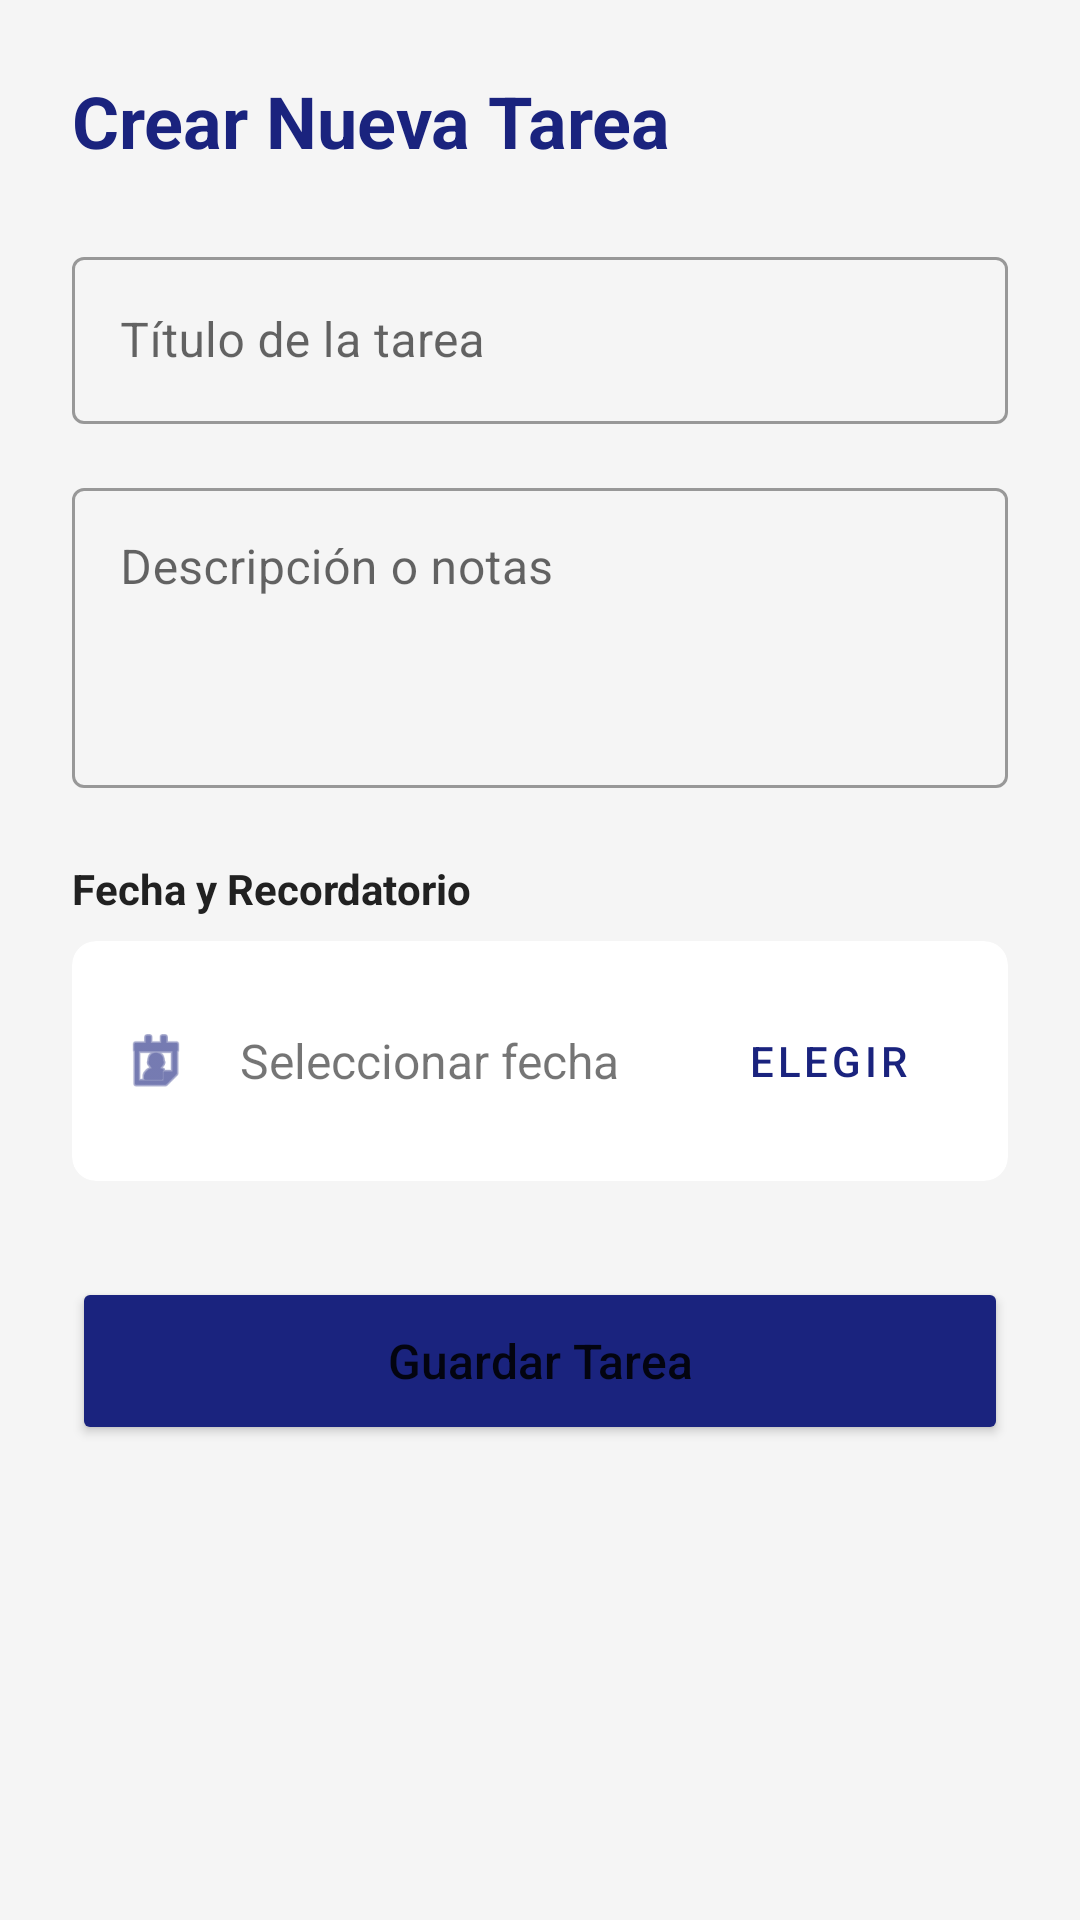

Icons on this 1080x1920 Android screen, each with its box as BBox(x1, y1, x2, y2):
calendar: BBox(133, 1034, 179, 1087)
